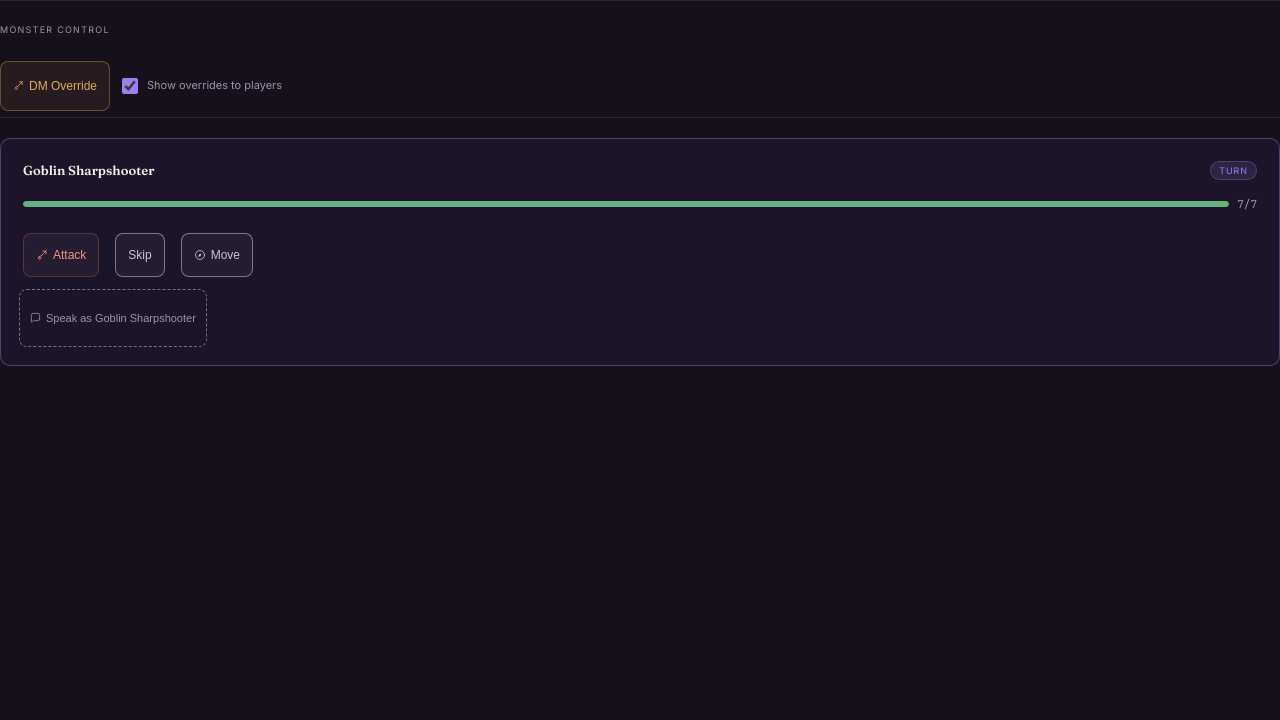
S5.4-AC12 — DmNarrationPanel: override button + toggle present › override button opens the override modal on click
This screenshot has width=1280, height=720.
Click the button "DM Override": [55, 86] box [0, 60, 110, 110]
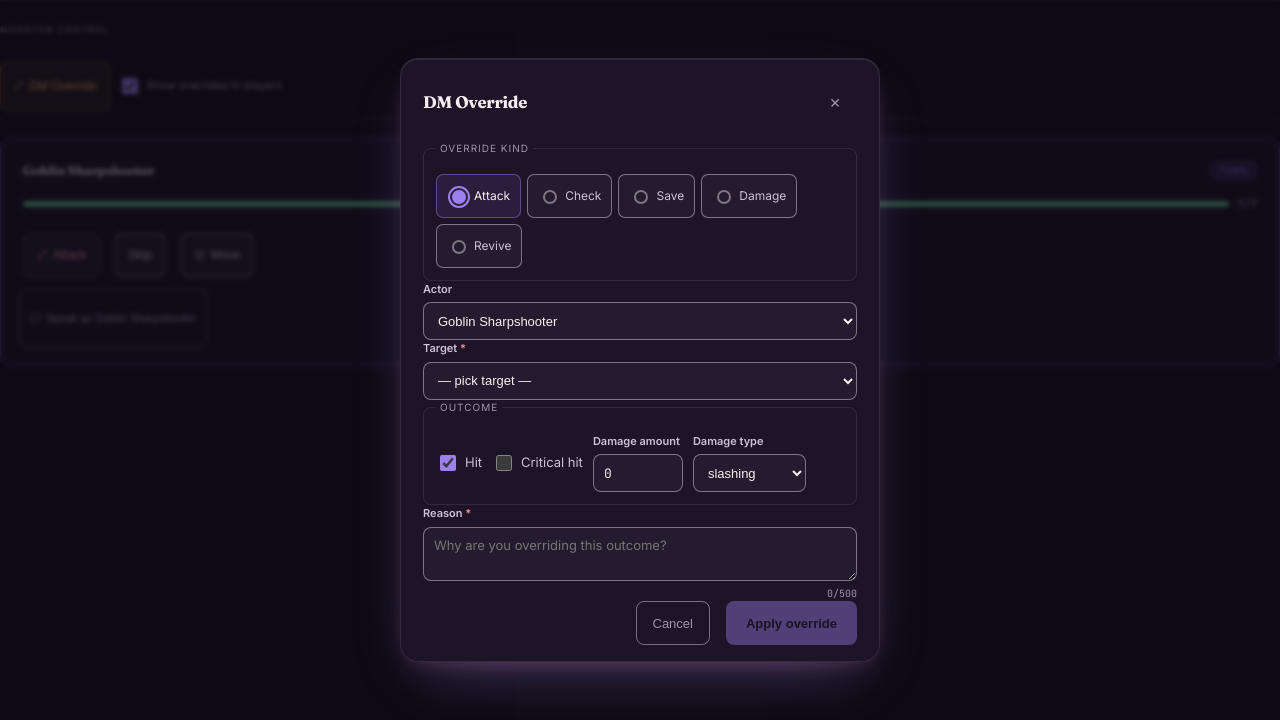
Expected: the dialog is shown, [400, 58, 880, 662]
